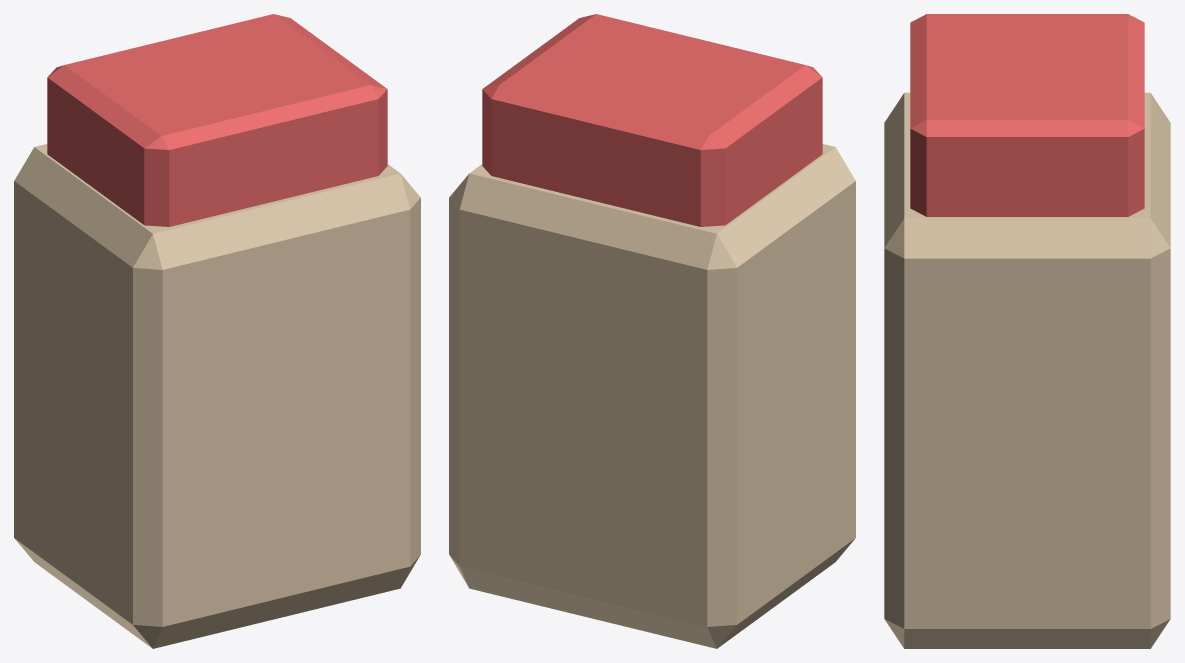
Rendered from b16_popcorn_carton.glb.
3 views of the same model, side by side, from view 1: azimuth 30°, elevation 25°; view 2: azimuth 150°, elevation 25°; view 3: azimuth 270°, elevation 25° (orthographic). The views are drawn at different scales.
Parts seen in each view (by area): view 1: b16_popcorn_carton; view 2: b16_popcorn_carton; view 3: b16_popcorn_carton.
Boxes of the visible parts, left/top/right/bottom form: b16_popcorn_carton: left=14, top=14, right=420, bottom=648; b16_popcorn_carton: left=449, top=14, right=855, bottom=648; b16_popcorn_carton: left=884, top=14, right=1170, bottom=648.
Bounding box in the file's own units: 0.1 × 0.166 × 0.083.
